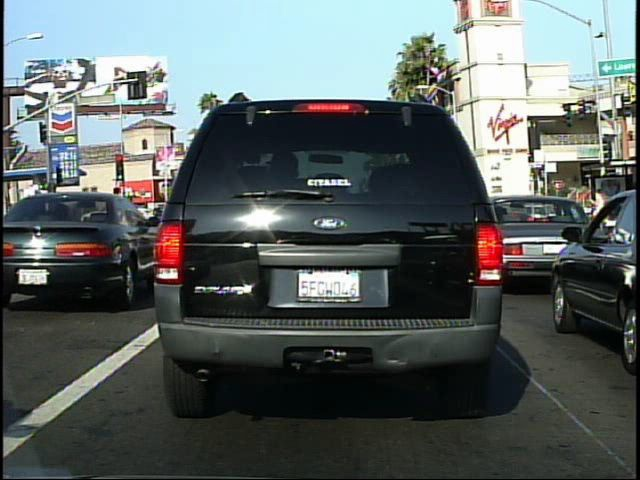person: (588, 184, 609, 241)
